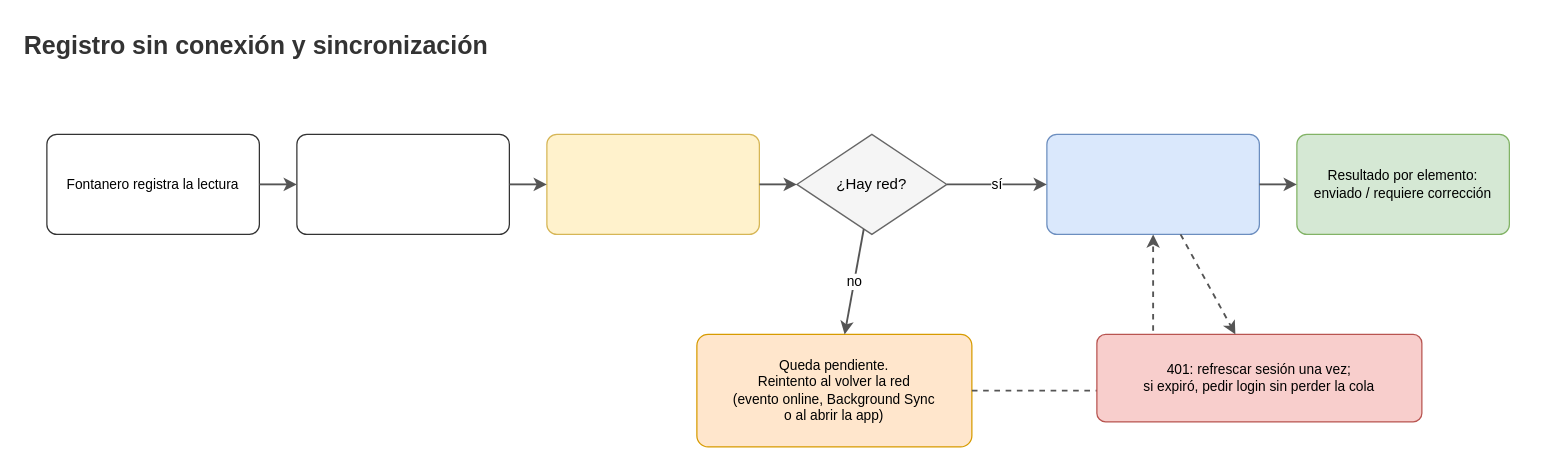
The diagram is 1543 pixels wide and 469 high, and some of its shapes have lost their labels. The shapes that lost their labels are listed below. From the top down, each one's centre as x and y in pixels, then its label:
At point (402, 183): "Validación Zod (límites y rango desde la API, guardados)".
At point (652, 183): "SubmitReadingCommand a IndexedDB con UUID y user_id".
At point (1152, 183): "POST /readings/batch (hasta 50 por lote)".
